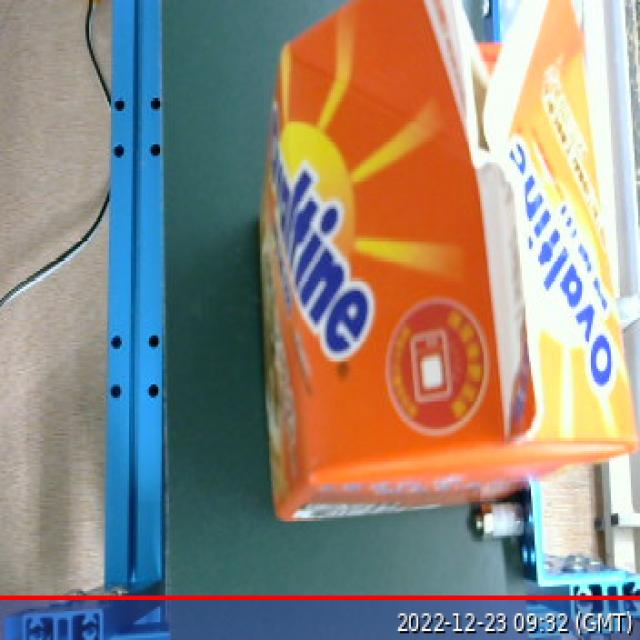non_white_jug: (262, 1, 637, 516)
